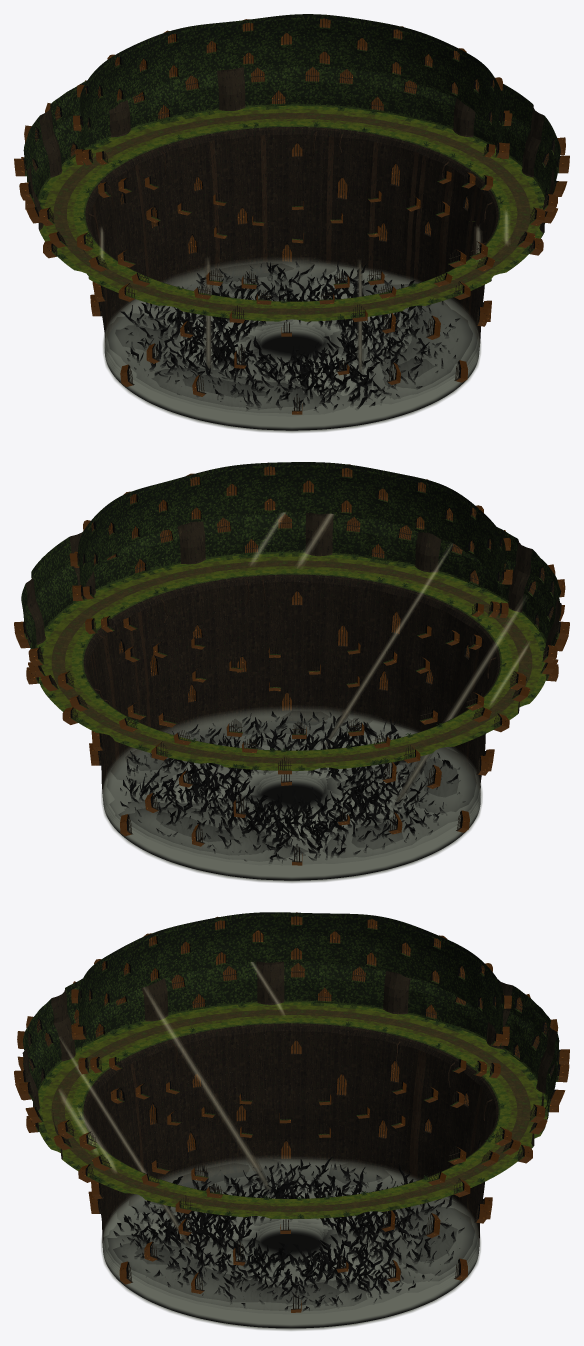
File: forest.glb
3 views of the same model, one above another, from view 1: azimuth 30°, elevation 25°; view 2: azimuth 150°, elevation 25°; view 3: azimuth 270°, elevation 25° (orthographic).
Parts seen in each view (by area): view 1: ForestGround, ForestFog, ForestRaysSolid; view 2: ForestGround, ForestFog, ForestRaysSolid; view 3: ForestGround, ForestFog, ForestRaysSolid.
Part boxes in pixels (x1,y1,x2,y2): ForestGround: (14,14,569,430); ForestFog: (103,258,480,432); ForestRaysSolid: (101,212,507,369); ForestGround: (14,462,569,880); ForestFog: (101,707,482,882); ForestRaysSolid: (252,513,528,801); ForestGround: (14,912,569,1328); ForestFog: (101,1157,480,1330); ForestRaysSolid: (60,962,283,1242).
Size of what is drawn, in the model's own units: 122 by 63.02 by 124.
Materials: 16 (13 with a texture image).
